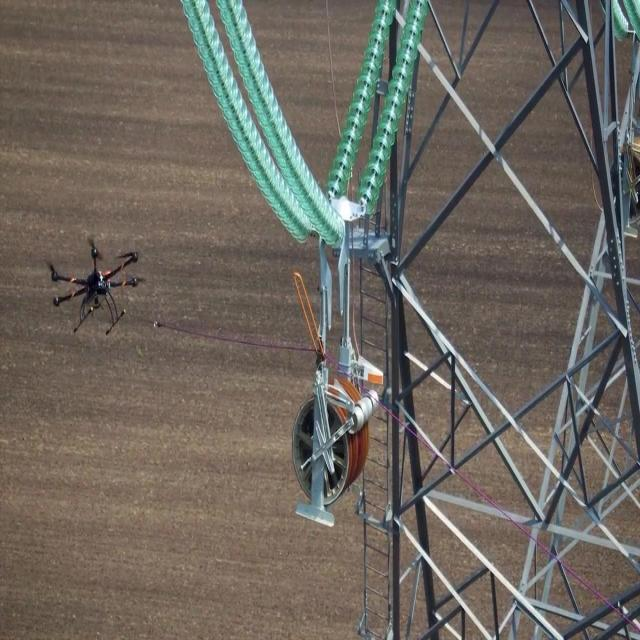UAV: (46, 237, 146, 336)
